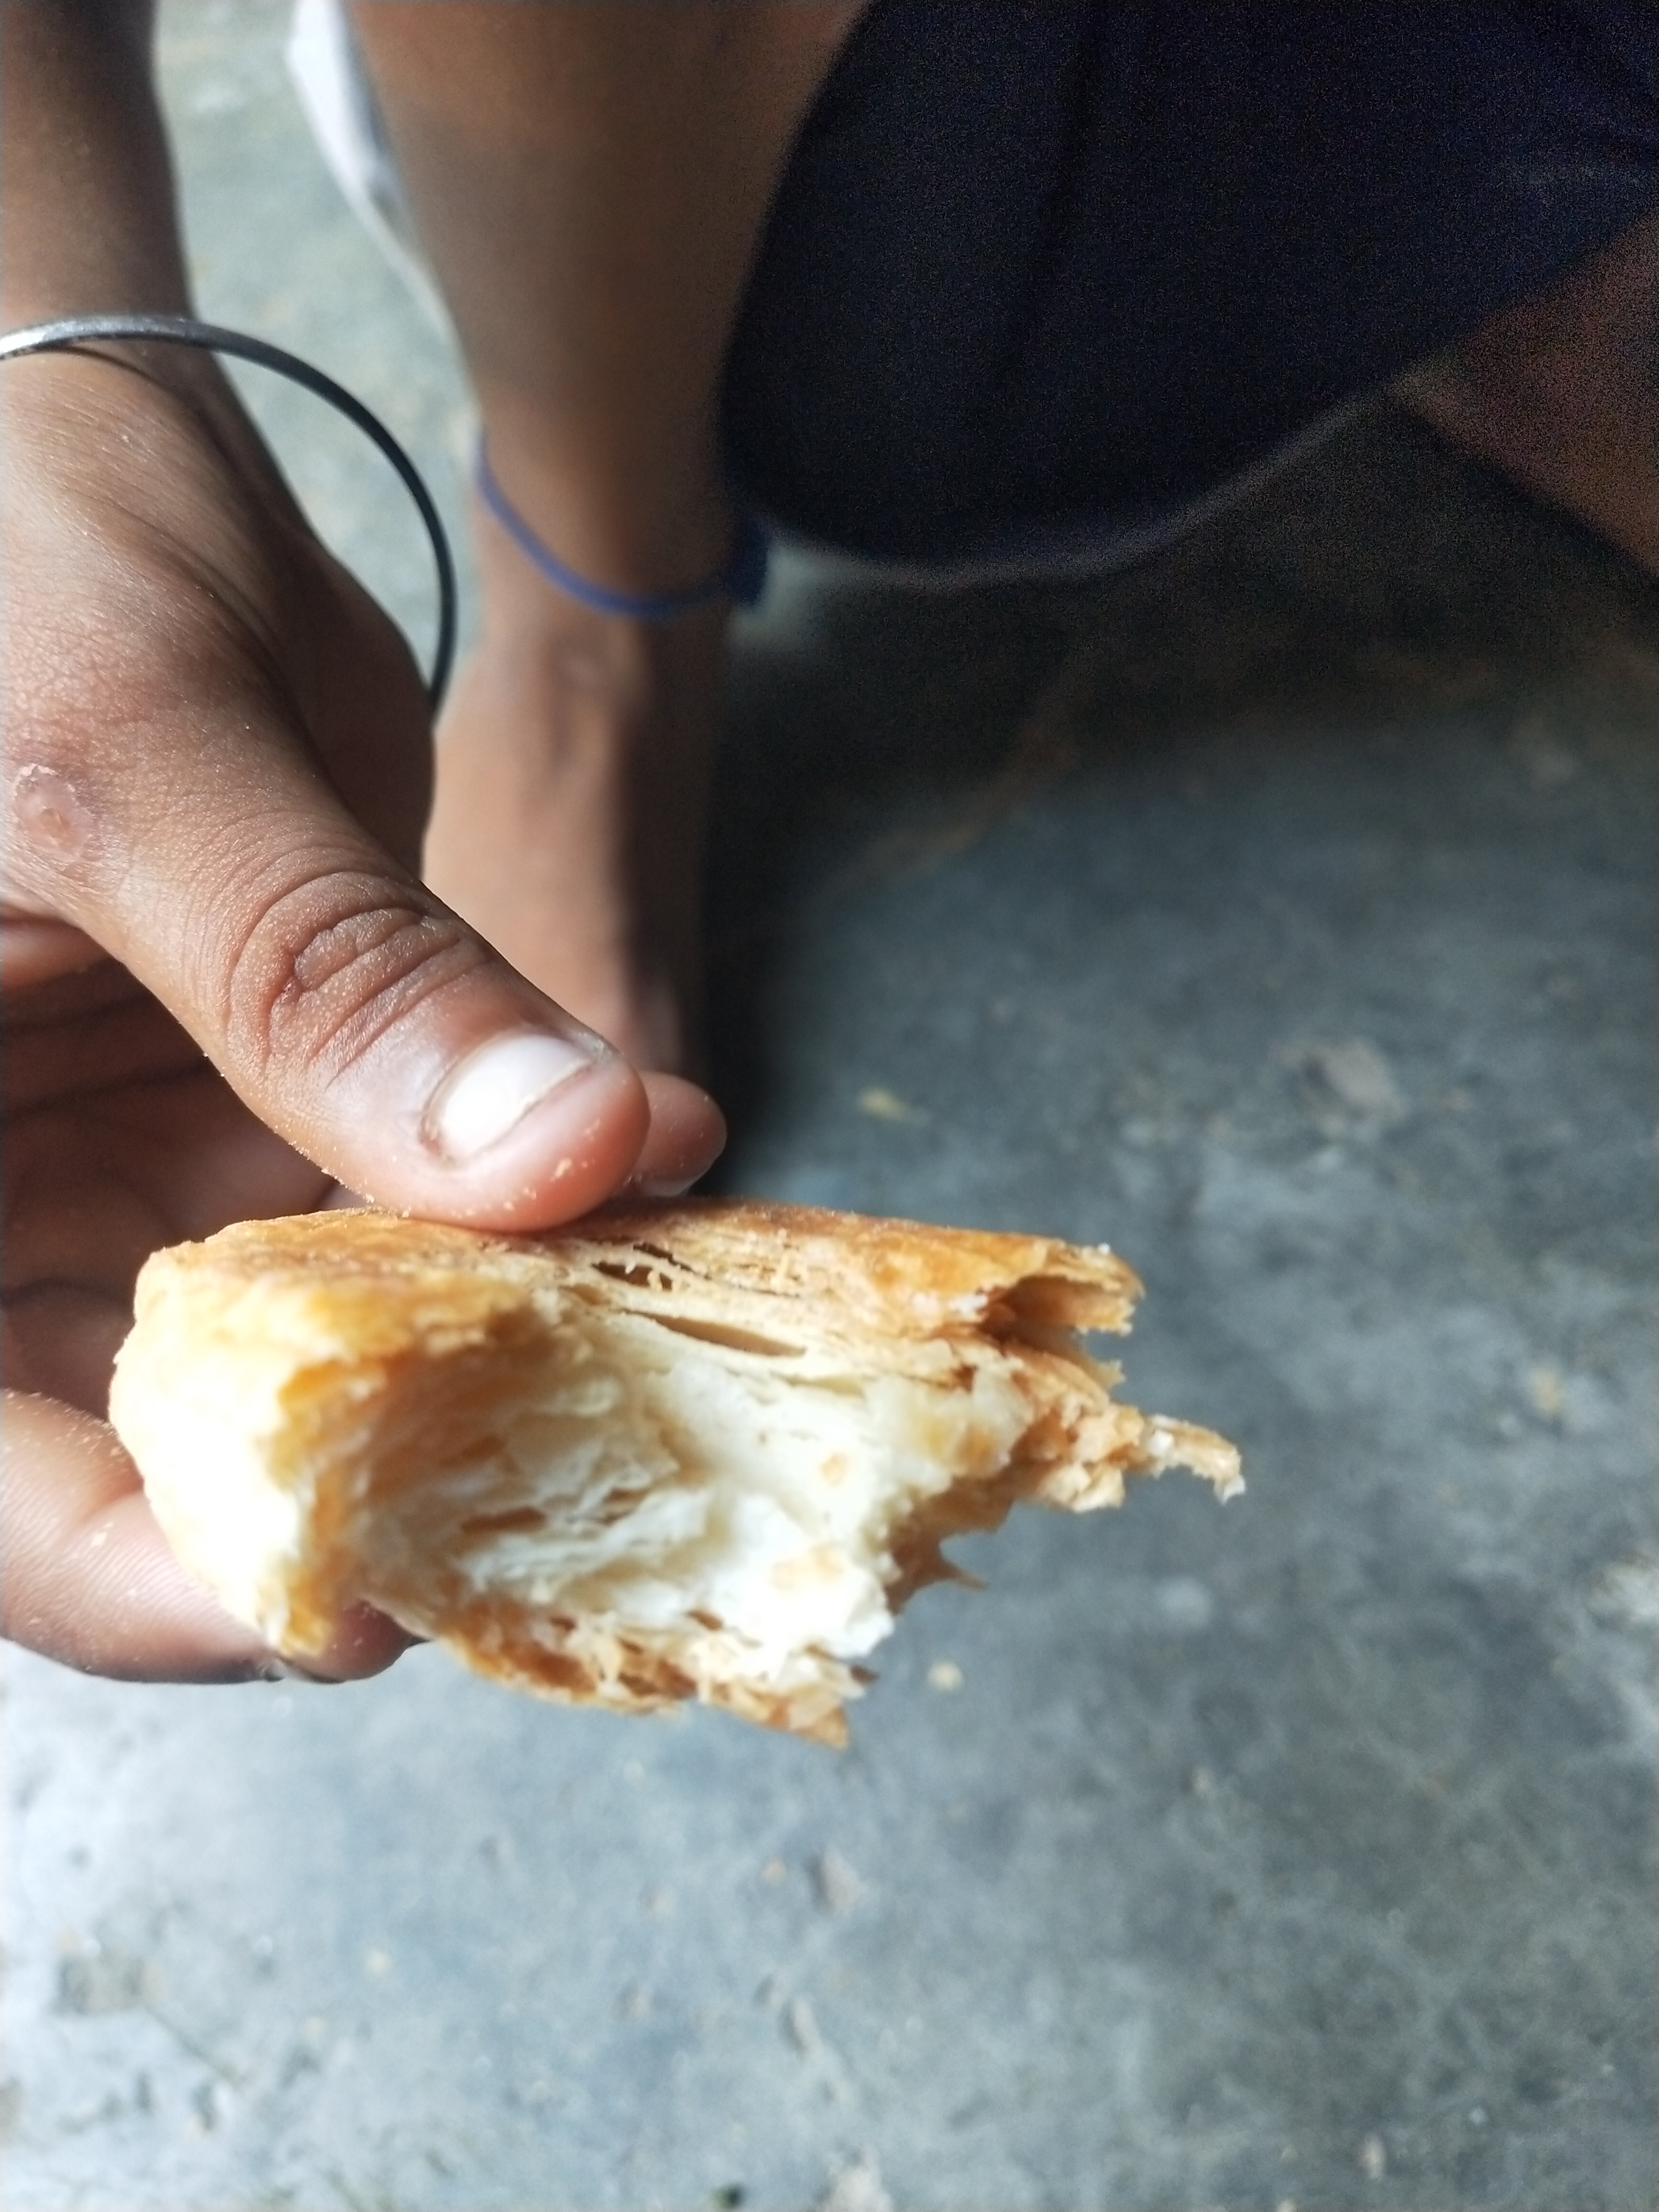food: (98, 1176, 1258, 1764)
